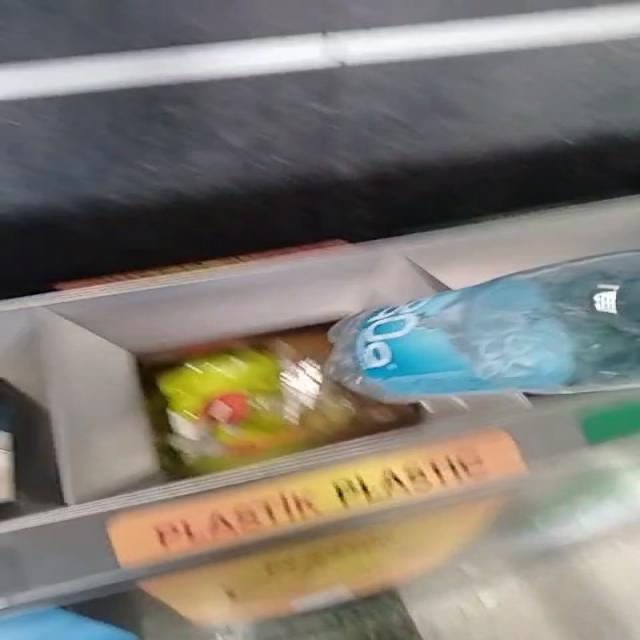plastic: (327, 252, 640, 402)
